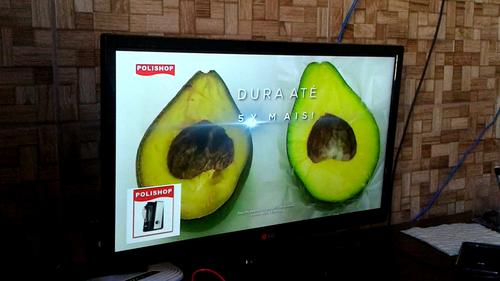Polishop #1: (126, 182, 180, 243)
